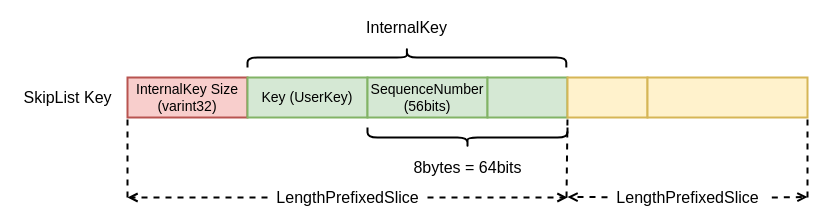
This 833x224 diagram has some shape labels left out. Here are the shapes that lost their labels. From the top down, the centre of each, then its label:
point (527, 97): ValueType (8bits)
point (607, 97): Value Size (varint32)
point (727, 97): Value
